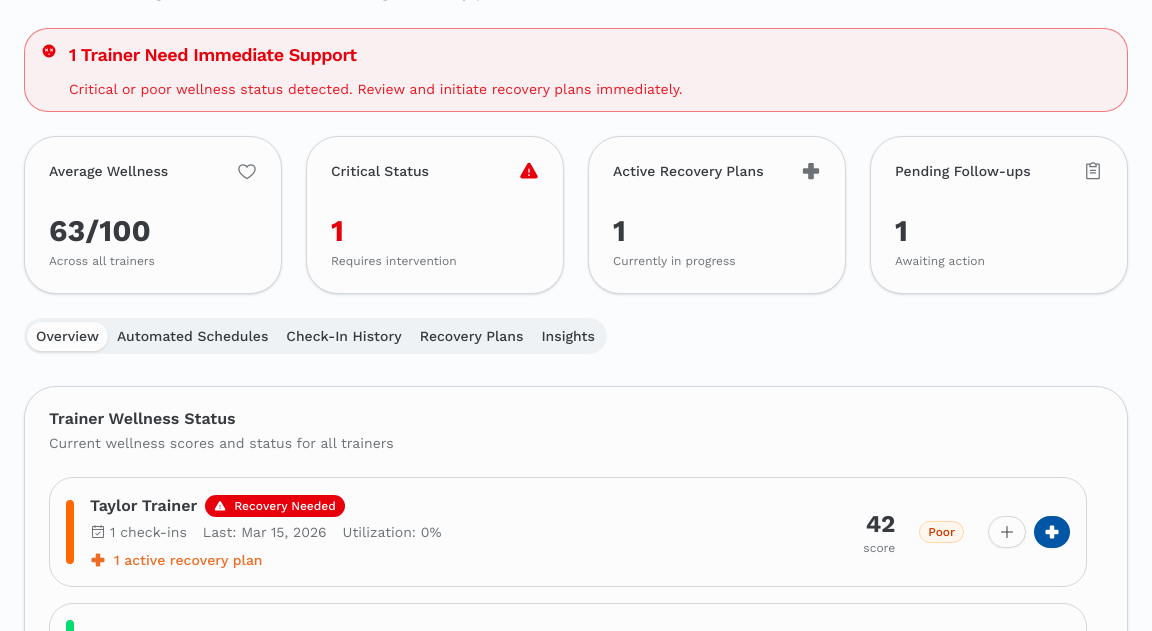
Test: TrainerWellness › renders frequency labels and schedule metadata variants
Click the tab "Automated Schedules" at (193, 336), box [108,322,277,350]
(page scrolled)
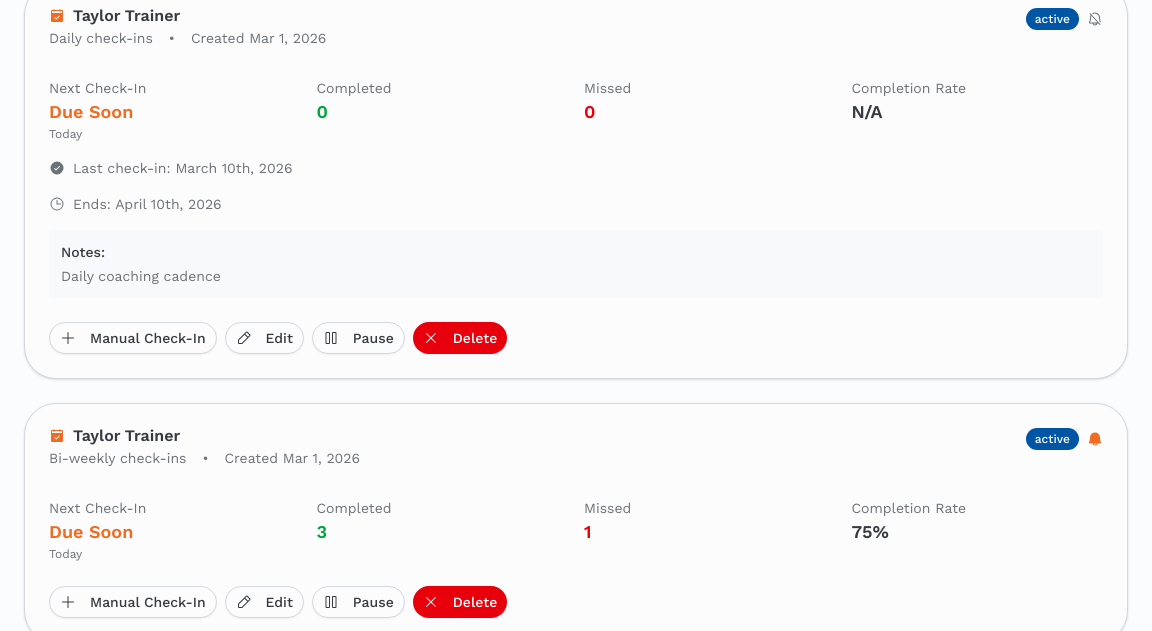
Result: the text "Daily check-ins" is shown at [49,28,153,48]
Result: the text "Bi-weekly check-ins" is shown at [49,448,186,468]
Result: the text "N/A" is shown at [852,101,883,122]
